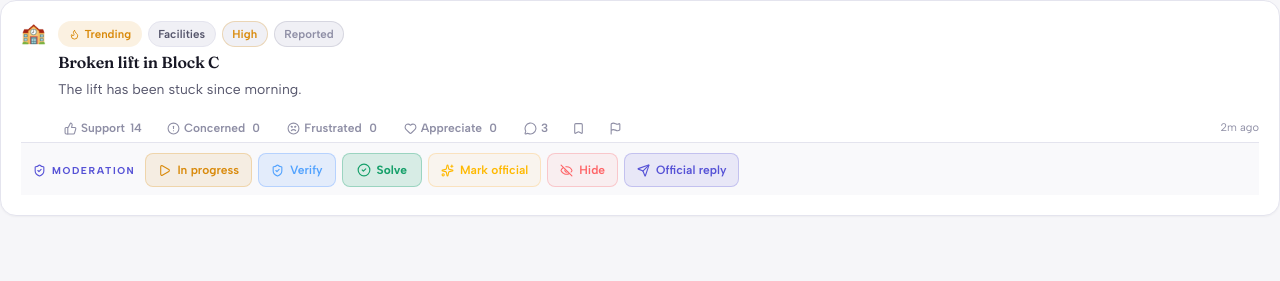
PostCard admin moderation bar › keeps the reply send button disabled while the message is empty
The image size is (1280, 281).
Click the button titled "Post an official admin reply on this post" at (682, 170), box top-left (624, 153), bottom-right (740, 187)
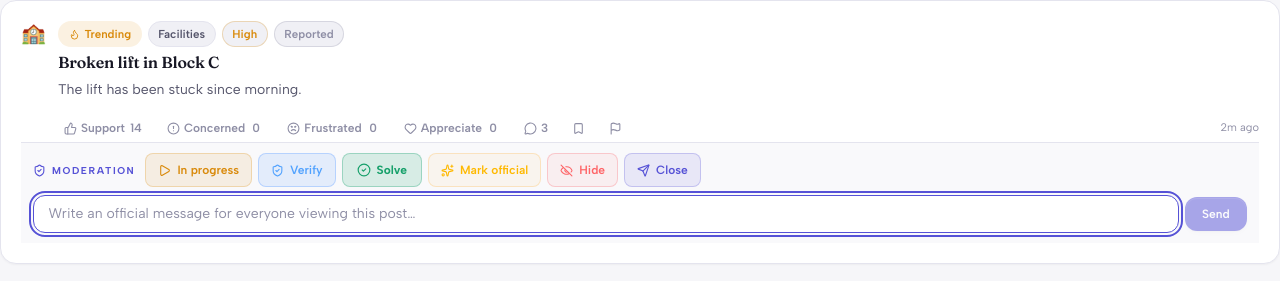
expect the button "Send" is disabled: met, box top-left (1185, 197), bottom-right (1247, 231)
